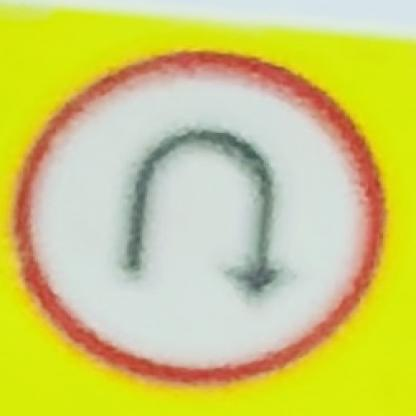U-Turn: (23, 65, 379, 377)
